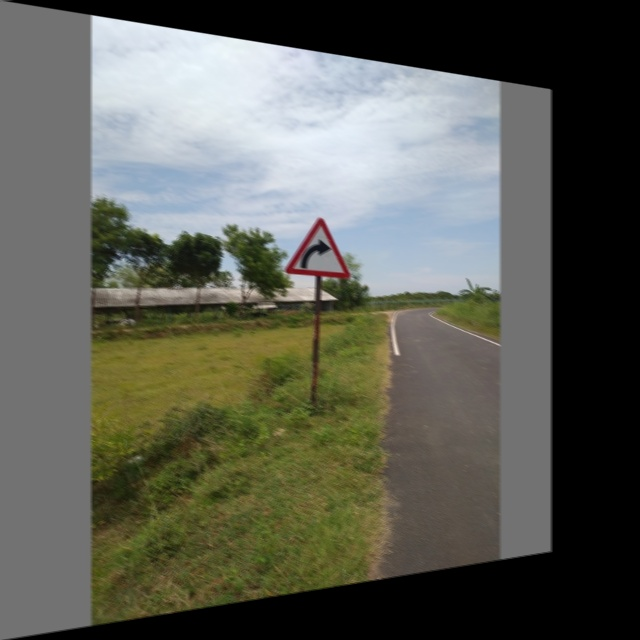Right_Hand_Curve: (285, 214, 347, 279)
